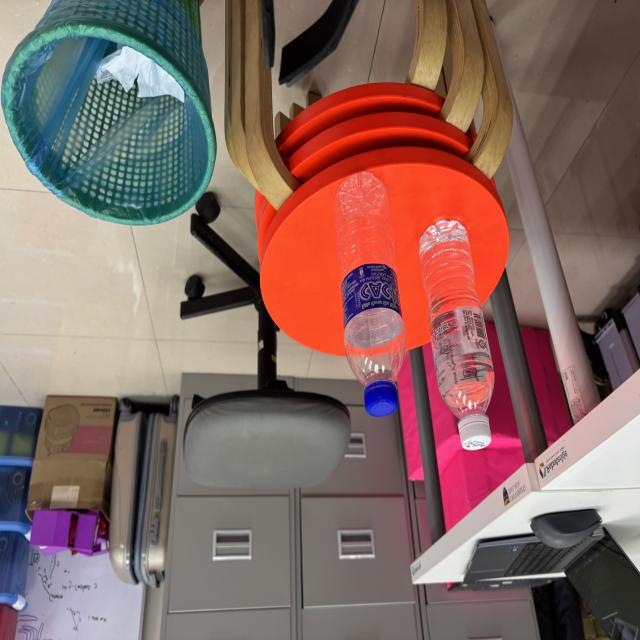dustbin: (1, 0, 225, 234)
plastic_bottle: (411, 208, 499, 461), (329, 158, 408, 426)
